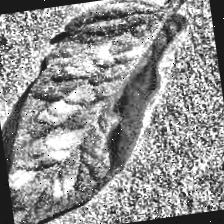leaf mold: (0, 0, 211, 224)
